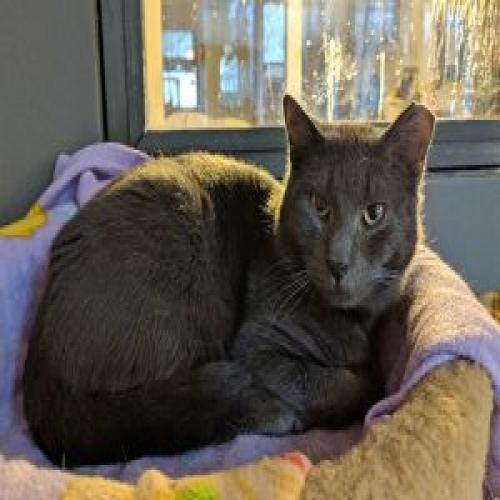rblue: (274, 79, 440, 319)
